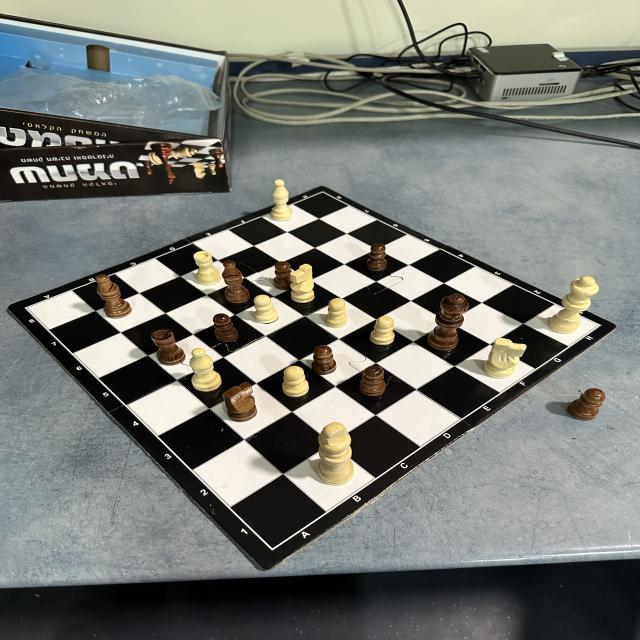Black-Bishop: (97, 274, 132, 319), (222, 260, 252, 304)
Black-Knight: (224, 382, 258, 421)
Black-Pawn: (568, 389, 606, 421), (212, 313, 239, 342), (361, 366, 385, 397), (313, 345, 336, 374), (367, 244, 388, 273), (273, 261, 294, 290)
Black-Queen: (427, 293, 467, 350)
Black-Rook: (151, 329, 185, 365)
White-Bishop: (191, 348, 223, 392), (271, 179, 293, 221)
White-King: (316, 422, 352, 485)
White-Knight: (484, 338, 526, 378), (290, 264, 314, 302)
White-Pawn: (282, 367, 310, 398), (370, 316, 395, 346), (254, 295, 278, 323), (325, 298, 347, 328)
White-Queen: (549, 276, 600, 334)
White-Rook: (193, 251, 220, 284)
